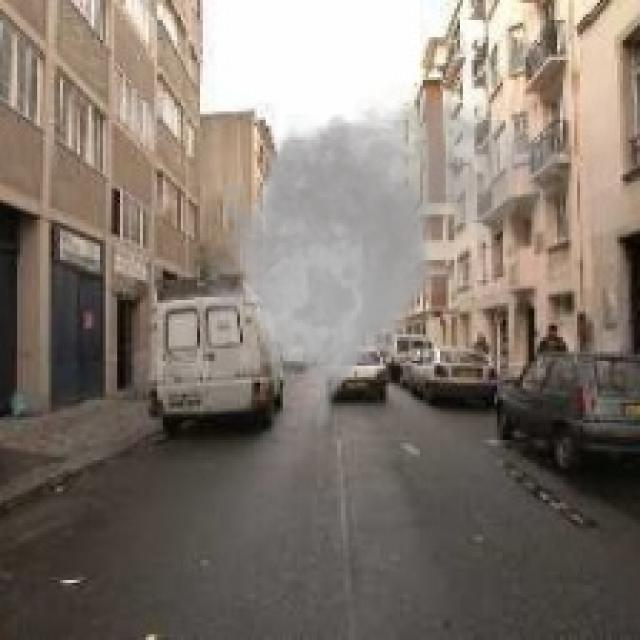Smoke: (194, 77, 566, 440)
